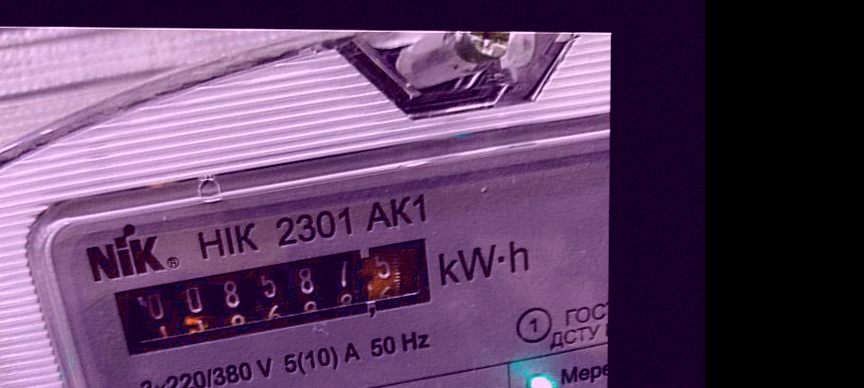0: (181, 282, 207, 317), (143, 290, 169, 322)
5: (257, 270, 280, 301), (371, 249, 393, 281)
6: (376, 284, 394, 302)
7: (332, 258, 354, 292)
8: (220, 279, 244, 311), (294, 265, 317, 298)
screen: (105, 236, 453, 361)
